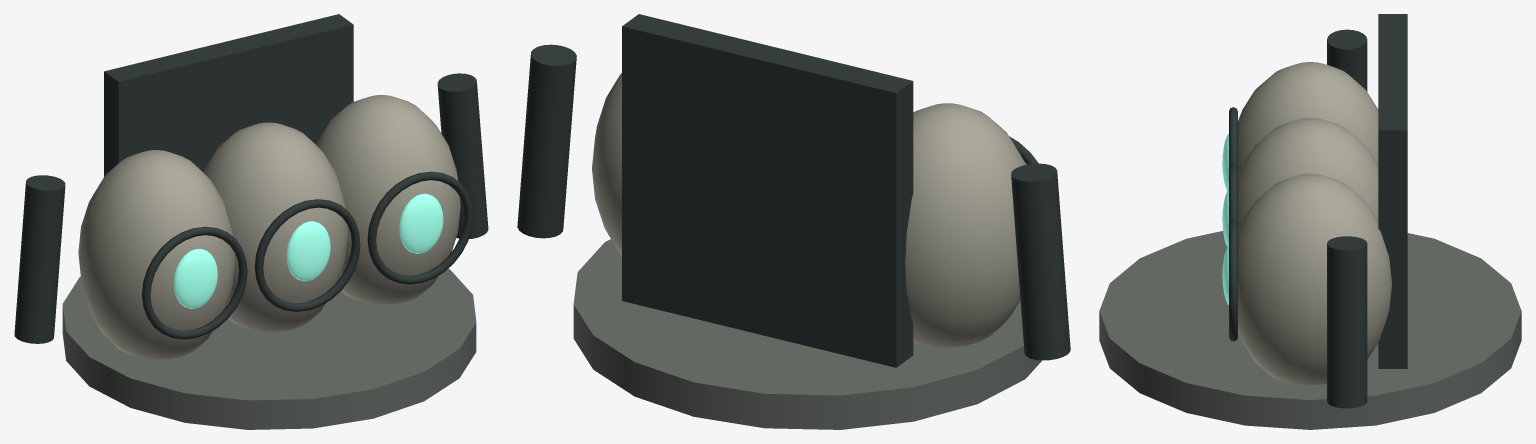
File: secret-nursery-v1.glb
The picture shows the model from 3 angles, left to right: view 1: azimuth 30°, elevation 25°; view 2: azimuth 150°, elevation 25°; view 3: azimuth 270°, elevation 25°; orthographic projection. The views are drawn at different scales.
Parts seen in each view (by area): view 1: ceramic-pod (×3), grounded-base, service-rack, rack-leg (×2), pod-collar (×3), sleeping-core (×3); view 2: service-rack, grounded-base, ceramic-pod (×2), rack-leg (×2); view 3: grounded-base, ceramic-pod (×3), service-rack, rack-leg (×2), pod-collar (×3).
Boxes of the visible parts, box(x1,y1,x2,y2) form: ceramic-pod (×3): box(78, 95, 460, 359); grounded-base: box(62, 268, 476, 429); service-rack: box(104, 14, 353, 176); rack-leg (×2): box(14, 73, 488, 343); pod-collar (×3): box(142, 171, 473, 339); sleeping-core (×3): box(173, 193, 443, 308); service-rack: box(622, 14, 913, 367); grounded-base: box(573, 239, 1041, 429); ceramic-pod (×2): box(592, 73, 1025, 347); rack-leg (×2): box(517, 44, 1070, 360); grounded-base: box(1099, 231, 1521, 429); ceramic-pod (×3): box(1238, 62, 1391, 385); service-rack: box(1378, 14, 1407, 368); rack-leg (×2): box(1327, 29, 1367, 408); pod-collar (×3): box(1229, 107, 1237, 341).
Bounding box in the file's own units: 2.99 × 1.61 × 2.3.
